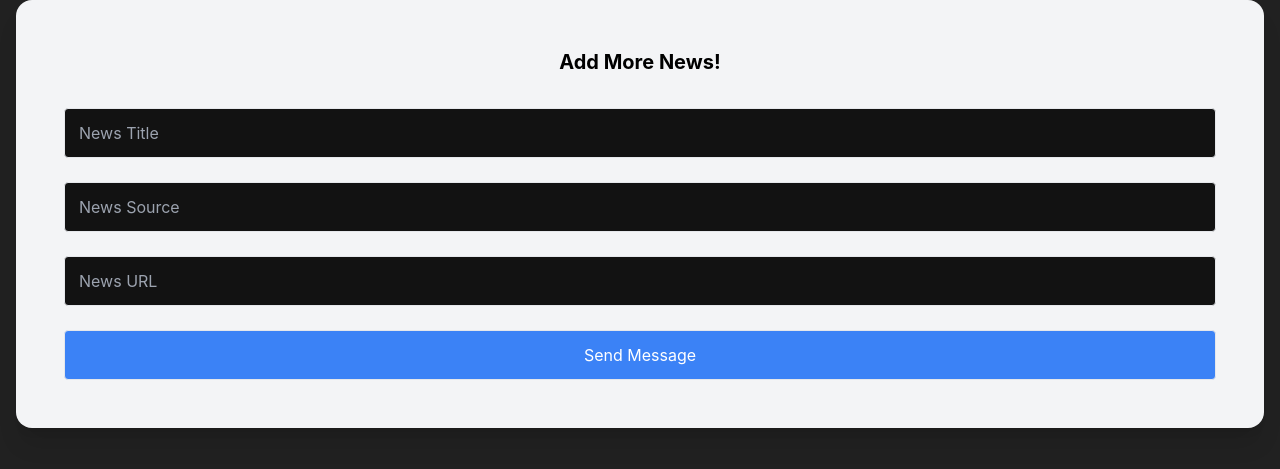
Test: NewsForm unit testing › should not submit the form due to empty news title
Click the button "Send Message": click(640, 355) [64,330,1216,380]
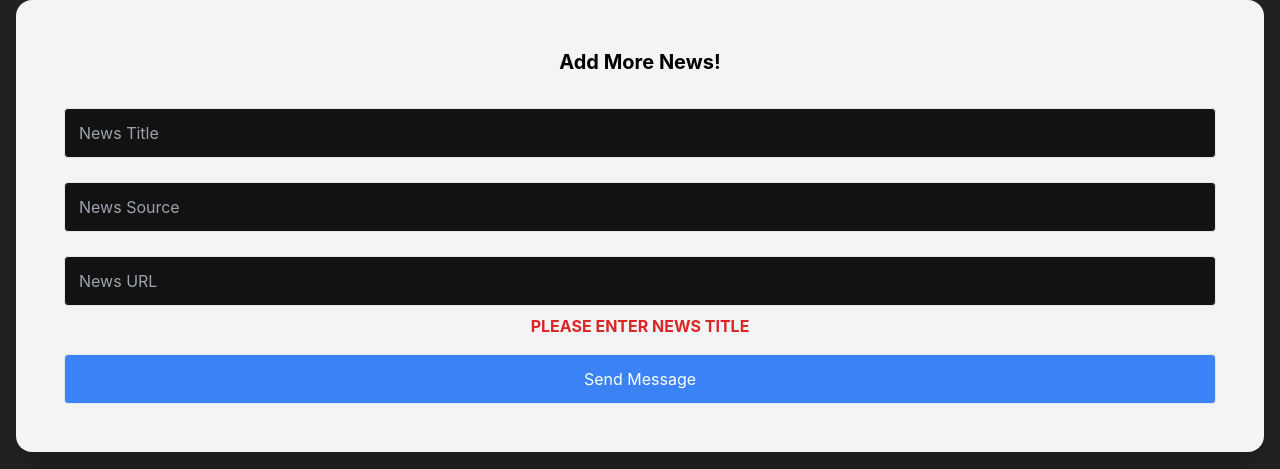
Expected: the text "please enter news title" is shown, [531,316,749,336]
